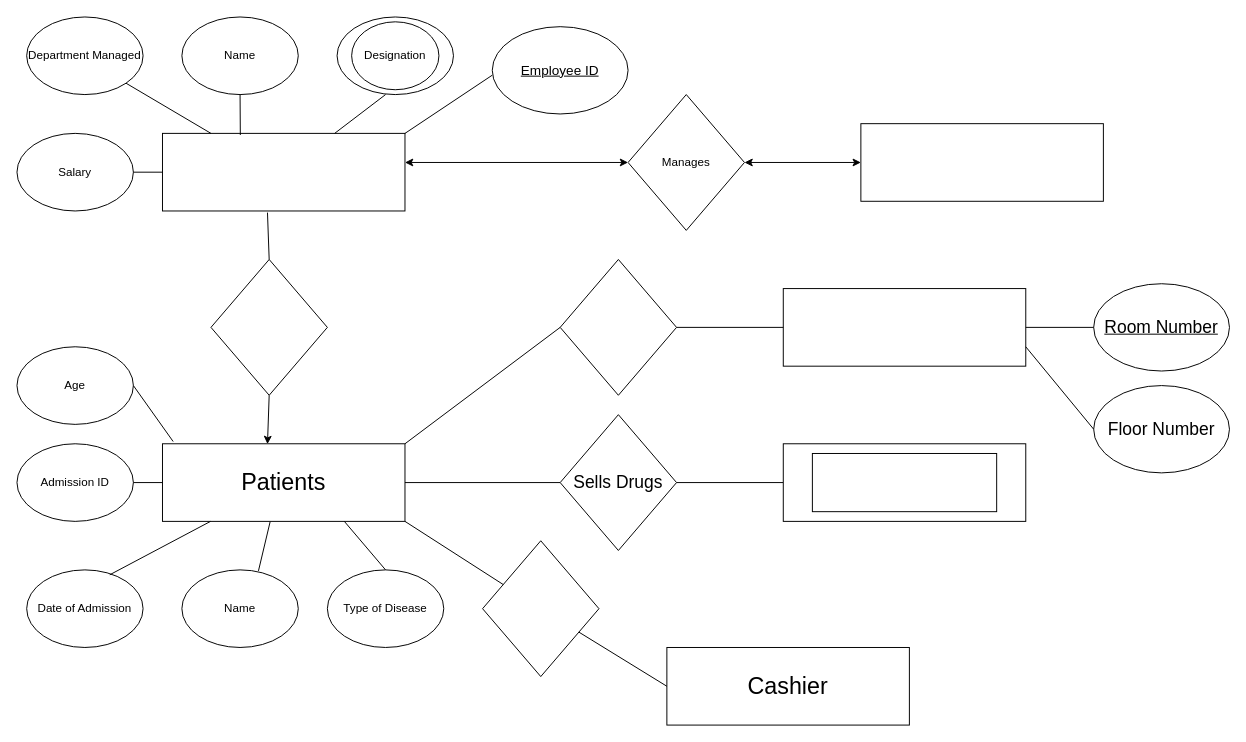
Image size: 1246x742. Some labels were removed from this diagram. The shapes that lost their labels are listed below. From the top down, each one's centre as x and y in pixels, then its label:
At point 283,171: "Doctors".
At point 981,162: "HR Department".
At point 268,327: "Diagnoses & Treats".
At point 618,327: "Books".
At point 904,327: "Room".
At point 904,482: "Pharmacist".
At point 540,608: "Makes payment".
